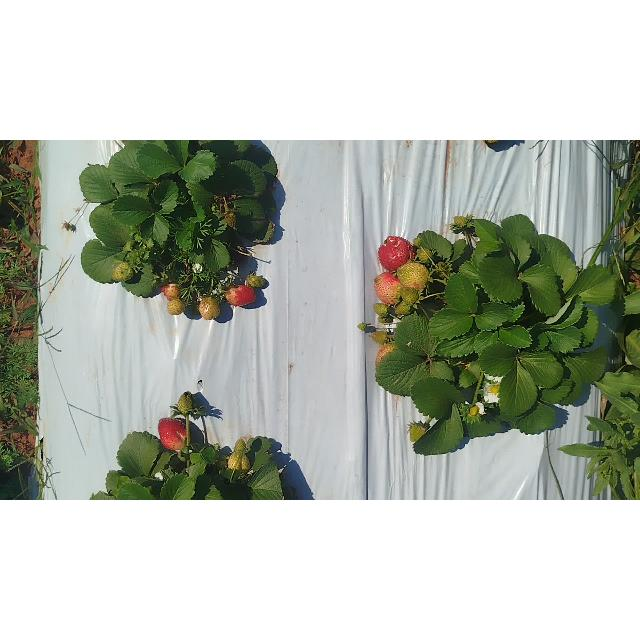maduro: (378, 237, 414, 270), (158, 418, 188, 448)
no-maduro: (397, 263, 428, 287), (110, 262, 132, 284), (200, 298, 220, 320), (228, 452, 250, 472), (178, 392, 196, 412), (400, 286, 418, 304), (168, 300, 186, 316), (409, 424, 425, 442), (164, 285, 180, 301), (416, 248, 432, 262), (373, 303, 387, 315), (234, 439, 246, 453), (250, 276, 266, 286), (394, 304, 410, 314), (454, 216, 466, 226)
semi-maduro: (374, 272, 404, 304), (226, 285, 254, 307)
